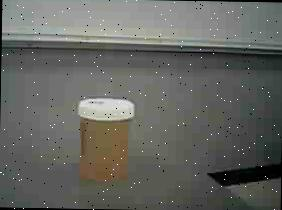Bottle B: (70, 93, 142, 187)
